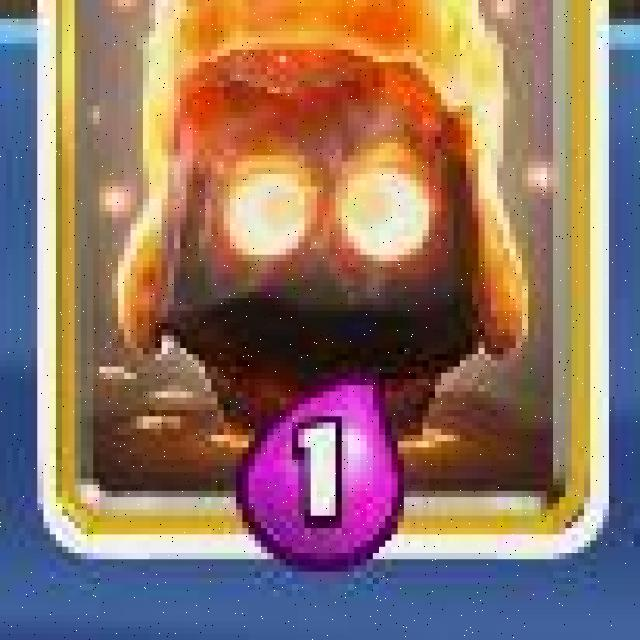Fire_Spirit: (31, 0, 604, 563)
